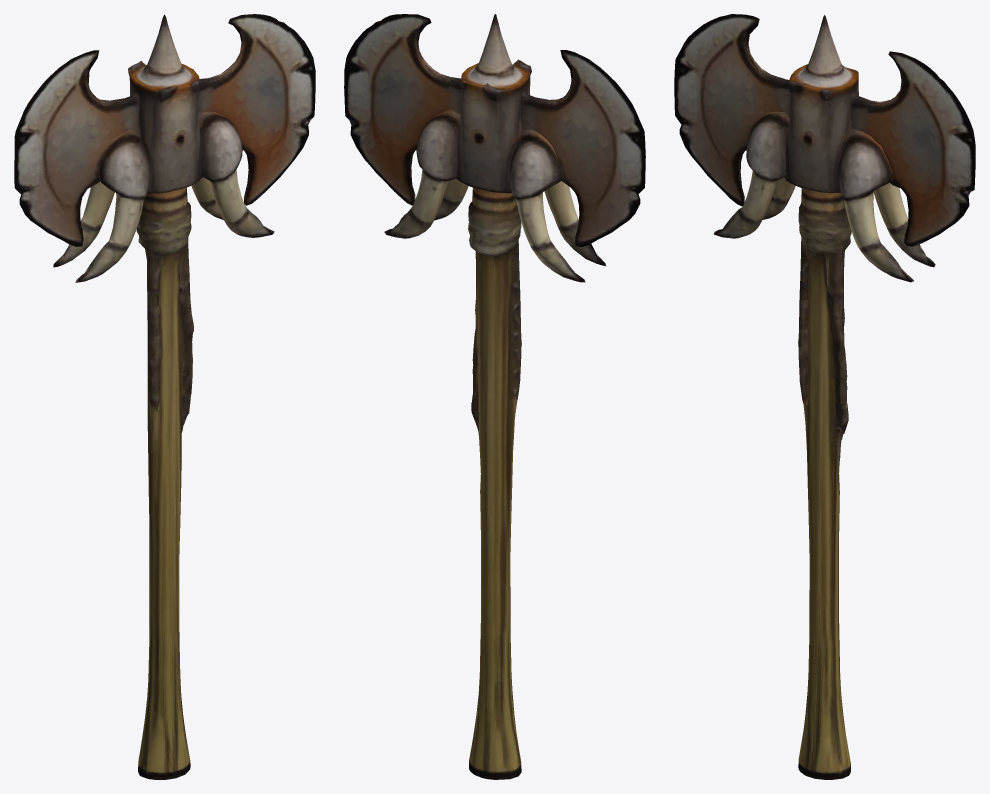
Rendered from bog_hide_greataxe.glb.
3 renders of one model, left to right at view 1: azimuth 30°, elevation 25°; view 2: azimuth 150°, elevation 25°; view 3: azimuth 330°, elevation 25°, orthographic.
Visible parts, largest first — view 1: world; view 2: world; view 3: world.
Part boxes in pixels (x1,y1,x2,y2): world: (14,14,315,779); world: (344,14,645,779); world: (674,14,975,779).
Size of the model in its own units: 0.5187 by 1.25 by 0.1166.
1 material, 1 textured.
